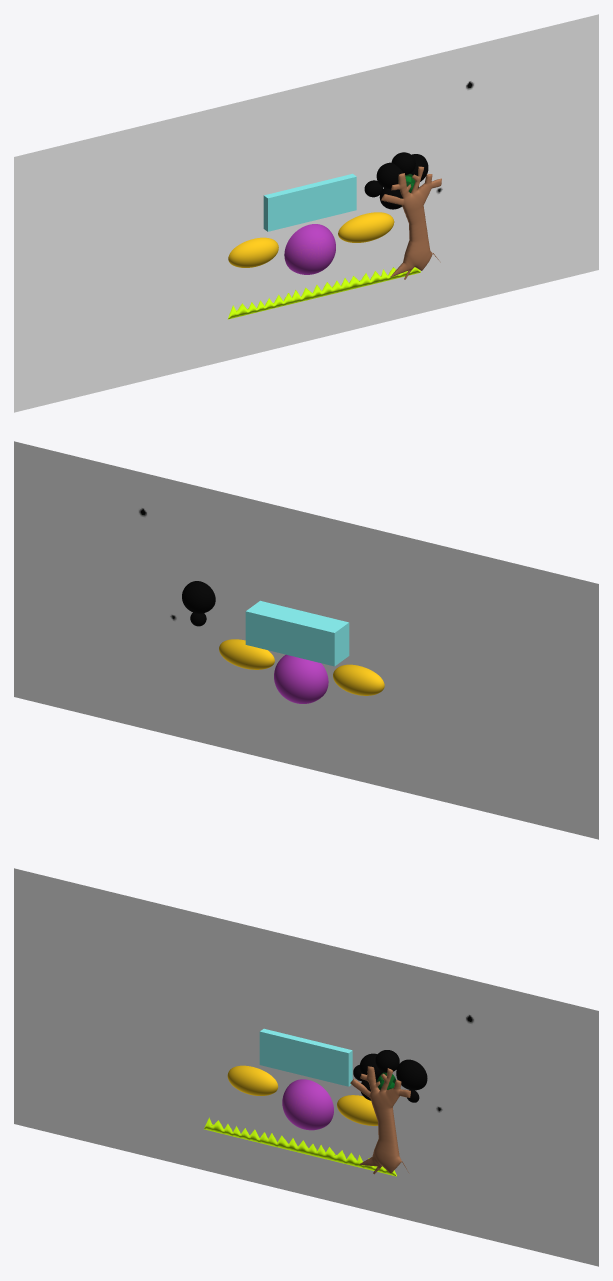
Rendered from pantalla 4.fbx.
3 views of the same model, one above another, from view 1: azimuth 30°, elevation 25°; view 2: azimuth 150°, elevation 25°; view 3: azimuth 330°, elevation 25° (orthographic).
Parts seen in each view (by area): view 1: node_id19 (×5), node_id20, root; view 2: node_id19 (×5), node_id20; view 3: node_id19 (×5), node_id20 (×2), root.
Boxes of the visible parts, left/top/right/bottom form: node_id19 (×5): left=14, top=14, right=598, bottom=412; node_id20: left=381, top=166, right=441, bottom=279; root: left=227, top=267, right=420, bottom=319; node_id19 (×5): left=14, top=441, right=598, bottom=839; node_id20: left=182, top=581, right=215, bottom=613; node_id19 (×5): left=14, top=868, right=598, bottom=1266; node_id20 (×2): left=350, top=1059, right=427, bottom=1174; root: left=204, top=1117, right=396, bottom=1176.
Size of the model in its own units: 0.512 by 0.2138 by 0.0511.
Materials: 14 (11 with a texture image).
